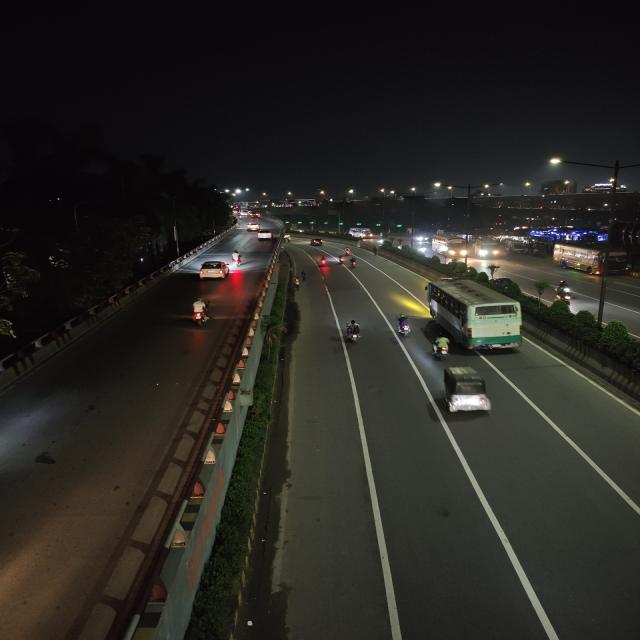bus: (423, 279, 529, 353), (552, 240, 632, 278), (433, 234, 468, 258), (476, 238, 506, 259)
car: (196, 259, 230, 281), (255, 230, 275, 240), (308, 238, 326, 248), (246, 223, 260, 232)
cng: (436, 365, 498, 421)
motorcycle: (187, 296, 215, 328), (427, 333, 453, 361), (341, 318, 366, 345), (392, 312, 414, 340), (554, 279, 575, 301), (230, 249, 245, 266), (317, 254, 330, 268), (346, 256, 358, 270), (341, 246, 352, 255), (375, 239, 383, 246)
pedestrian: (288, 275, 302, 291)
